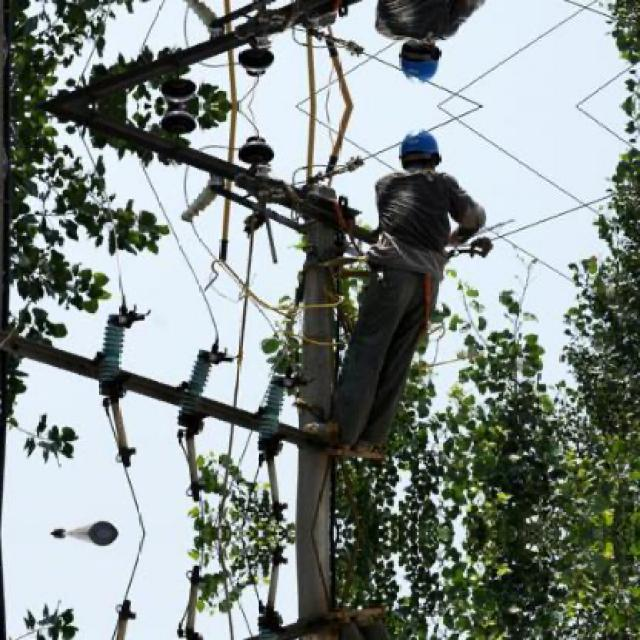helmet: (400, 126, 446, 178), (400, 37, 446, 88)
